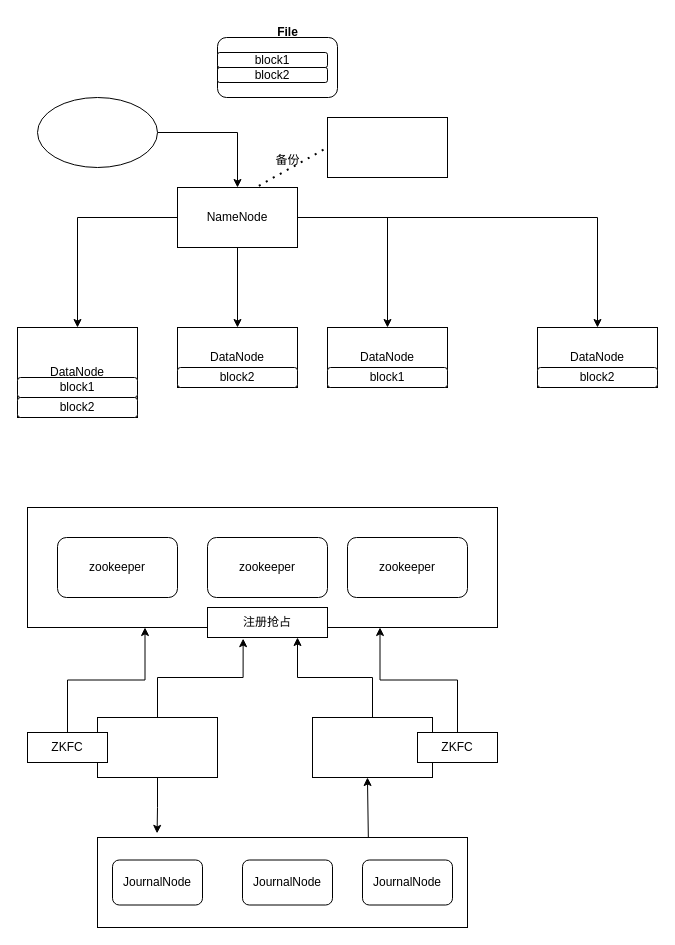
This 675x945 diagram has some shape labels left out. The shapes that lost their labels are listed below. From the top down, each one's centre as x and y in pixels, then its label:
the point at 97,132: 客户端
the point at 387,147: SecondaryNode
the point at 157,747: NameNode (active)
the point at 372,747: NameNode (standby)
